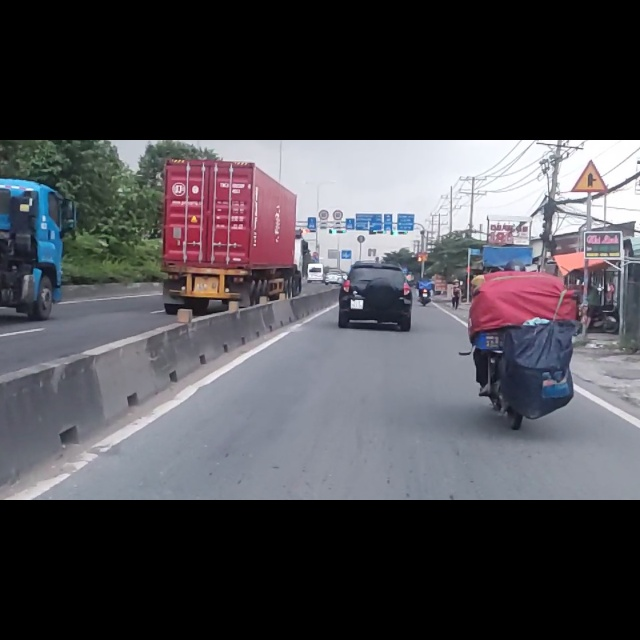bien_chi_dan: (571, 32, 609, 96), (333, 124, 343, 143), (319, 124, 329, 142)
